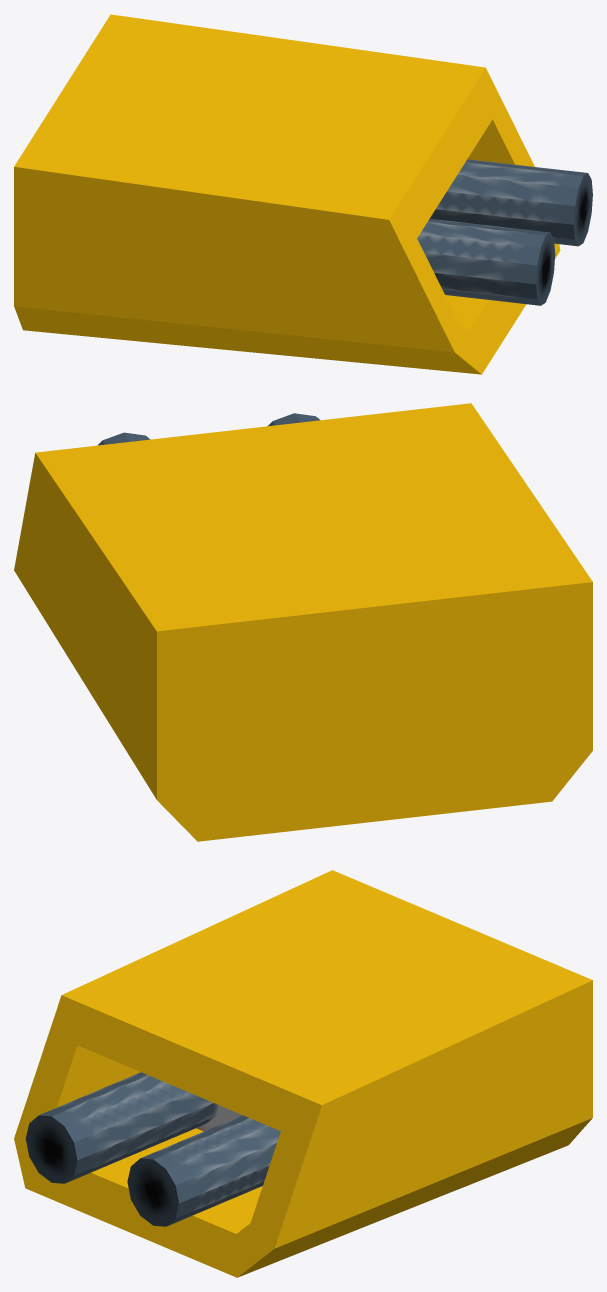
Rendered from singleTurret.glb.
3 renders of one model, top to bottom at view 1: azimuth 30°, elevation 25°; view 2: azimuth 150°, elevation 25°; view 3: azimuth 270°, elevation 25°, orthographic. The views are drawn at different scales.
Parts seen in each view (by area): view 1: Cube.005; view 2: Cube.005; view 3: Cube.005.
Boxes of the visible parts, box(x1,y1,x2,y2) form: Cube.005: box(14, 14, 592, 374); Cube.005: box(14, 403, 592, 841); Cube.005: box(14, 870, 592, 1277).
Bounding box in the file's own units: 1.01 × 0.3389 × 1.01.
Materials: 2 (1 with a texture image).
